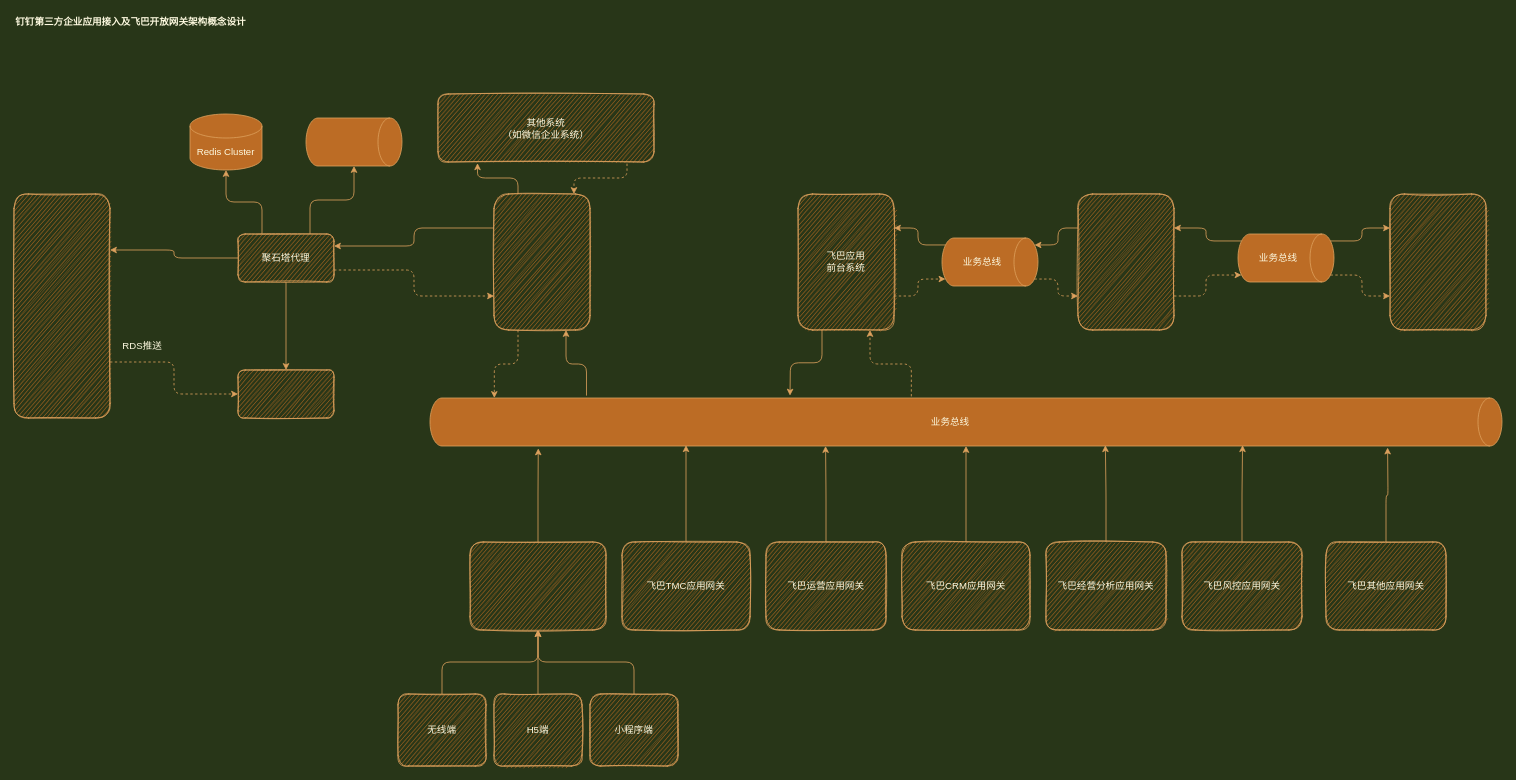
This 1516x780 diagram has some shape labels left out. Here are the shapes that lost their labels. From the top down, the box of each, then its label:
(305, 117, 402, 166): MQ Cluster
(493, 193, 590, 330): 飞巴开放平台 应用网关
(1077, 193, 1174, 330): 飞巴业务 中台系统
(1389, 193, 1486, 330): 飞巴数据 后台系统
(13, 193, 110, 418): 钉钉系统
(237, 369, 334, 418): 聚石塔RDS
(469, 541, 606, 630): 飞巴企业应用网关
